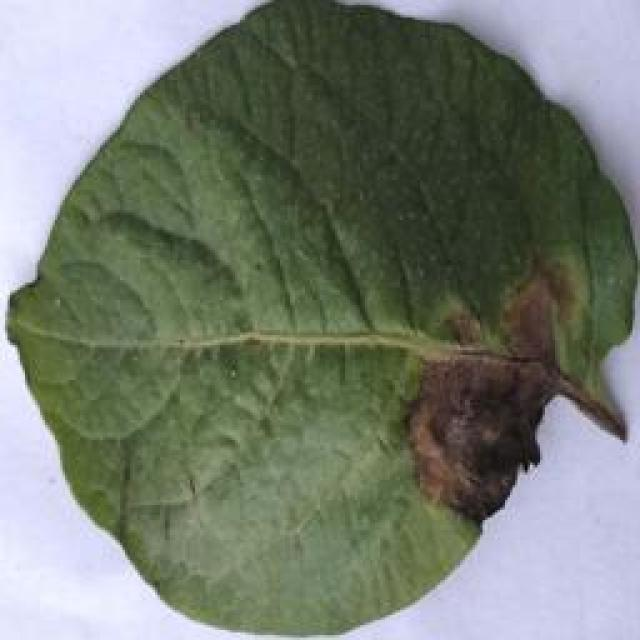Potato_Late_Blight: (4, 10, 635, 636)
